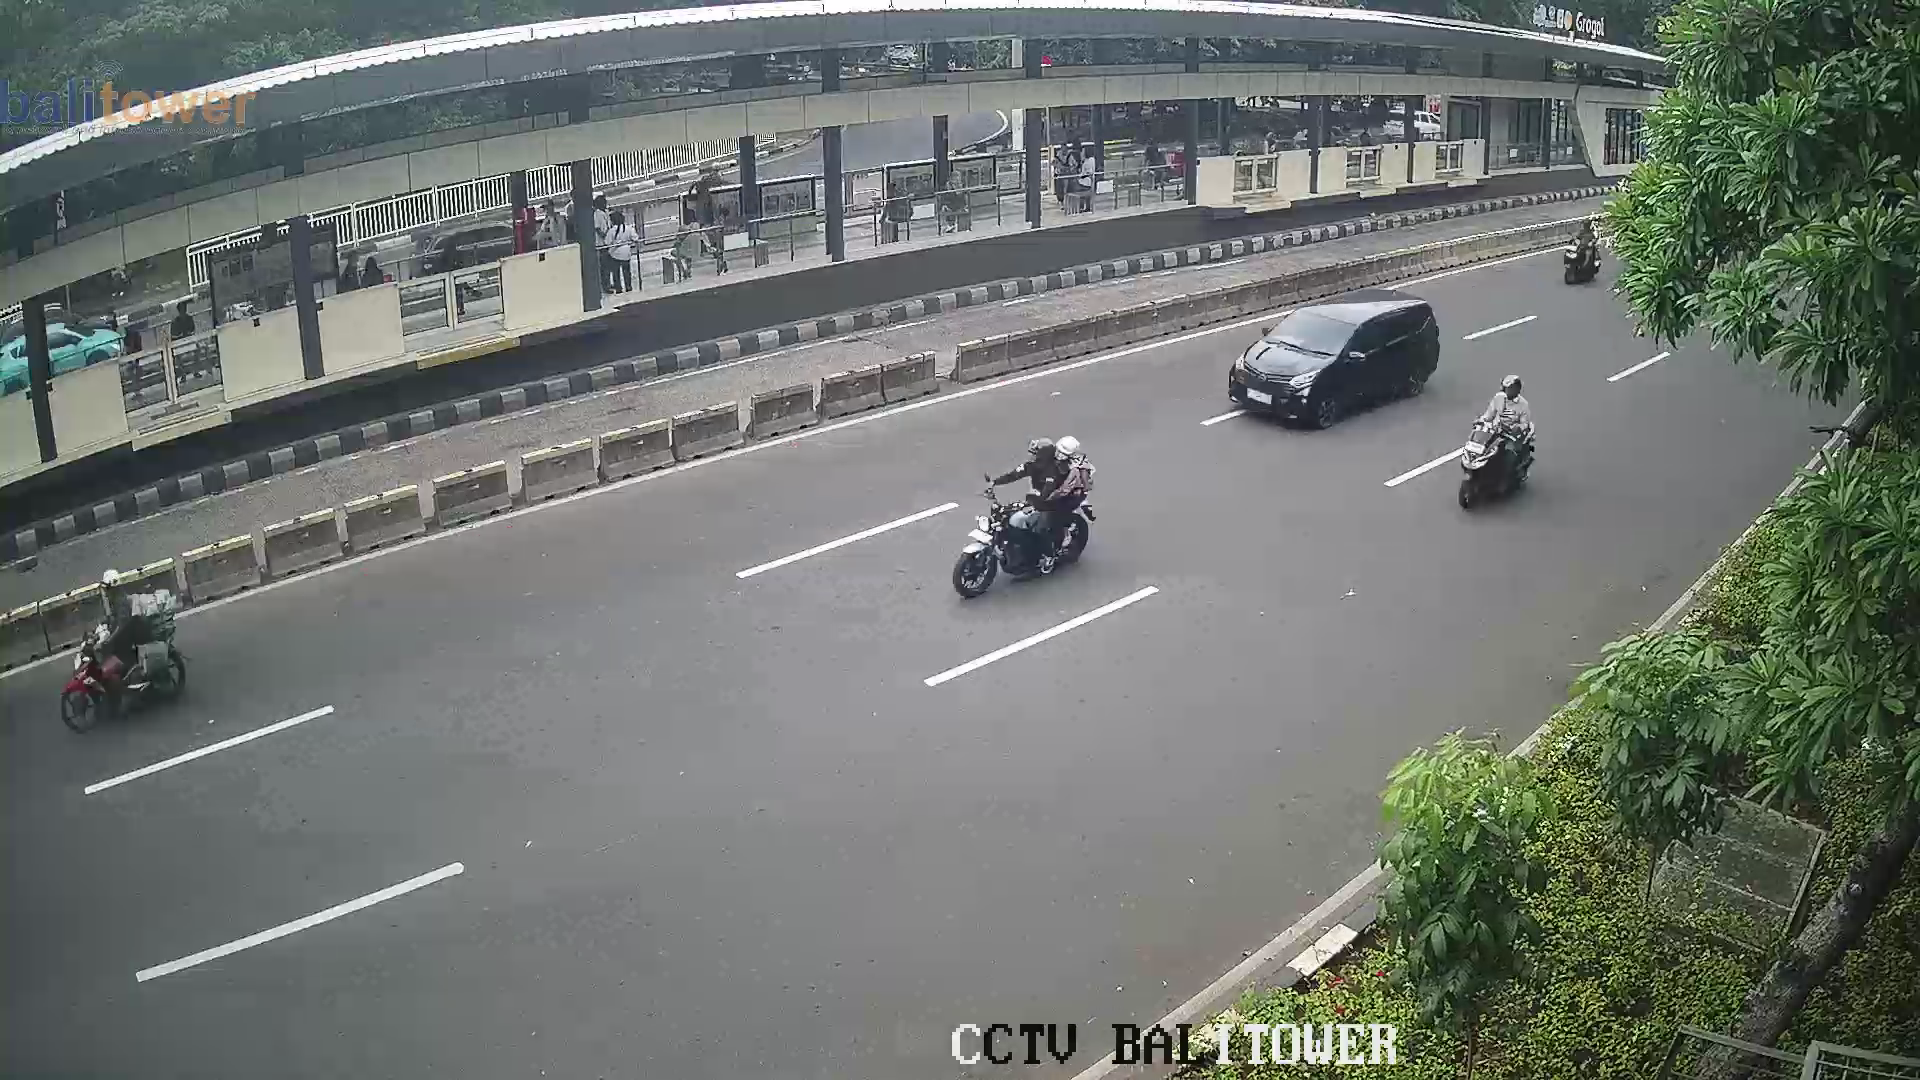full-face helmet: (1021, 439, 1059, 478)
half-face helmet: (96, 567, 131, 606), (1498, 371, 1521, 412), (1061, 439, 1090, 469)
